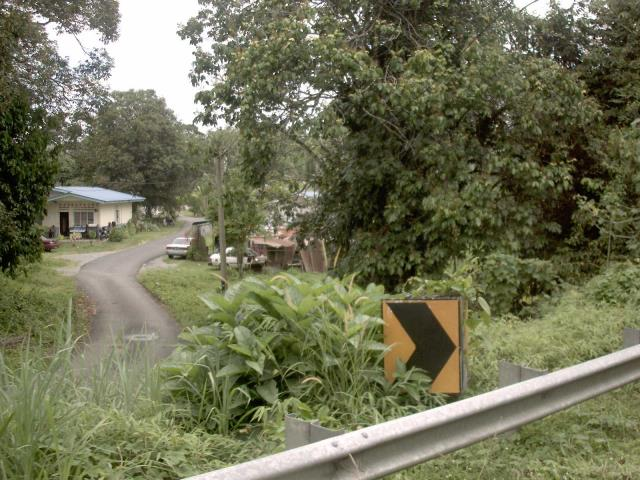traffic_sign: (368, 278, 470, 434)
